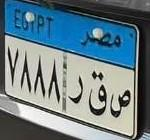7: (6, 43, 19, 87)
8: (47, 56, 62, 106), (20, 49, 33, 97), (34, 53, 45, 99)
qaaf: (86, 66, 109, 120)
raa: (66, 72, 85, 109)
saad: (110, 86, 132, 122)
